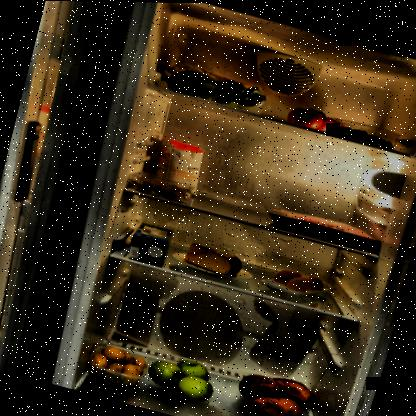apple: (142, 348, 223, 409)
blueberries: (330, 114, 404, 150)
cheese: (181, 238, 245, 278)
eggs: (271, 262, 331, 302)
ground_beef: (260, 201, 382, 252)
milk: (124, 219, 176, 269)
potato: (84, 340, 149, 391)
spinach: (160, 61, 274, 118)
sweet_potato: (229, 363, 322, 415)
tomato: (283, 100, 348, 137)
